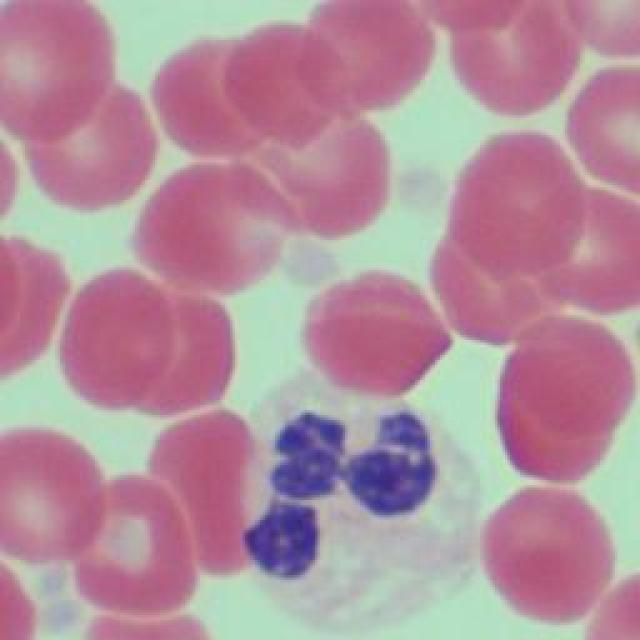RBC: (130, 162, 295, 298), (450, 130, 585, 282), (479, 484, 616, 626), (304, 272, 454, 396), (149, 408, 256, 578), (240, 116, 390, 236), (430, 216, 568, 346), (22, 84, 158, 214), (78, 475, 200, 617), (0, 0, 117, 142), (60, 269, 175, 411), (500, 352, 615, 480), (229, 25, 349, 147), (0, 427, 105, 565), (309, 1, 436, 114), (156, 36, 274, 156), (121, 295, 236, 417), (446, 16, 579, 119), (518, 317, 634, 435), (548, 190, 638, 312), (0, 239, 70, 379), (565, 62, 640, 190), (570, 2, 640, 58), (587, 570, 640, 640), (425, 1, 527, 31), (82, 620, 208, 640)
WBC: (242, 375, 482, 635)
